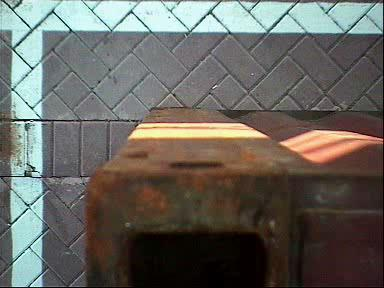groundmarker_2: (1, 1, 62, 50)
